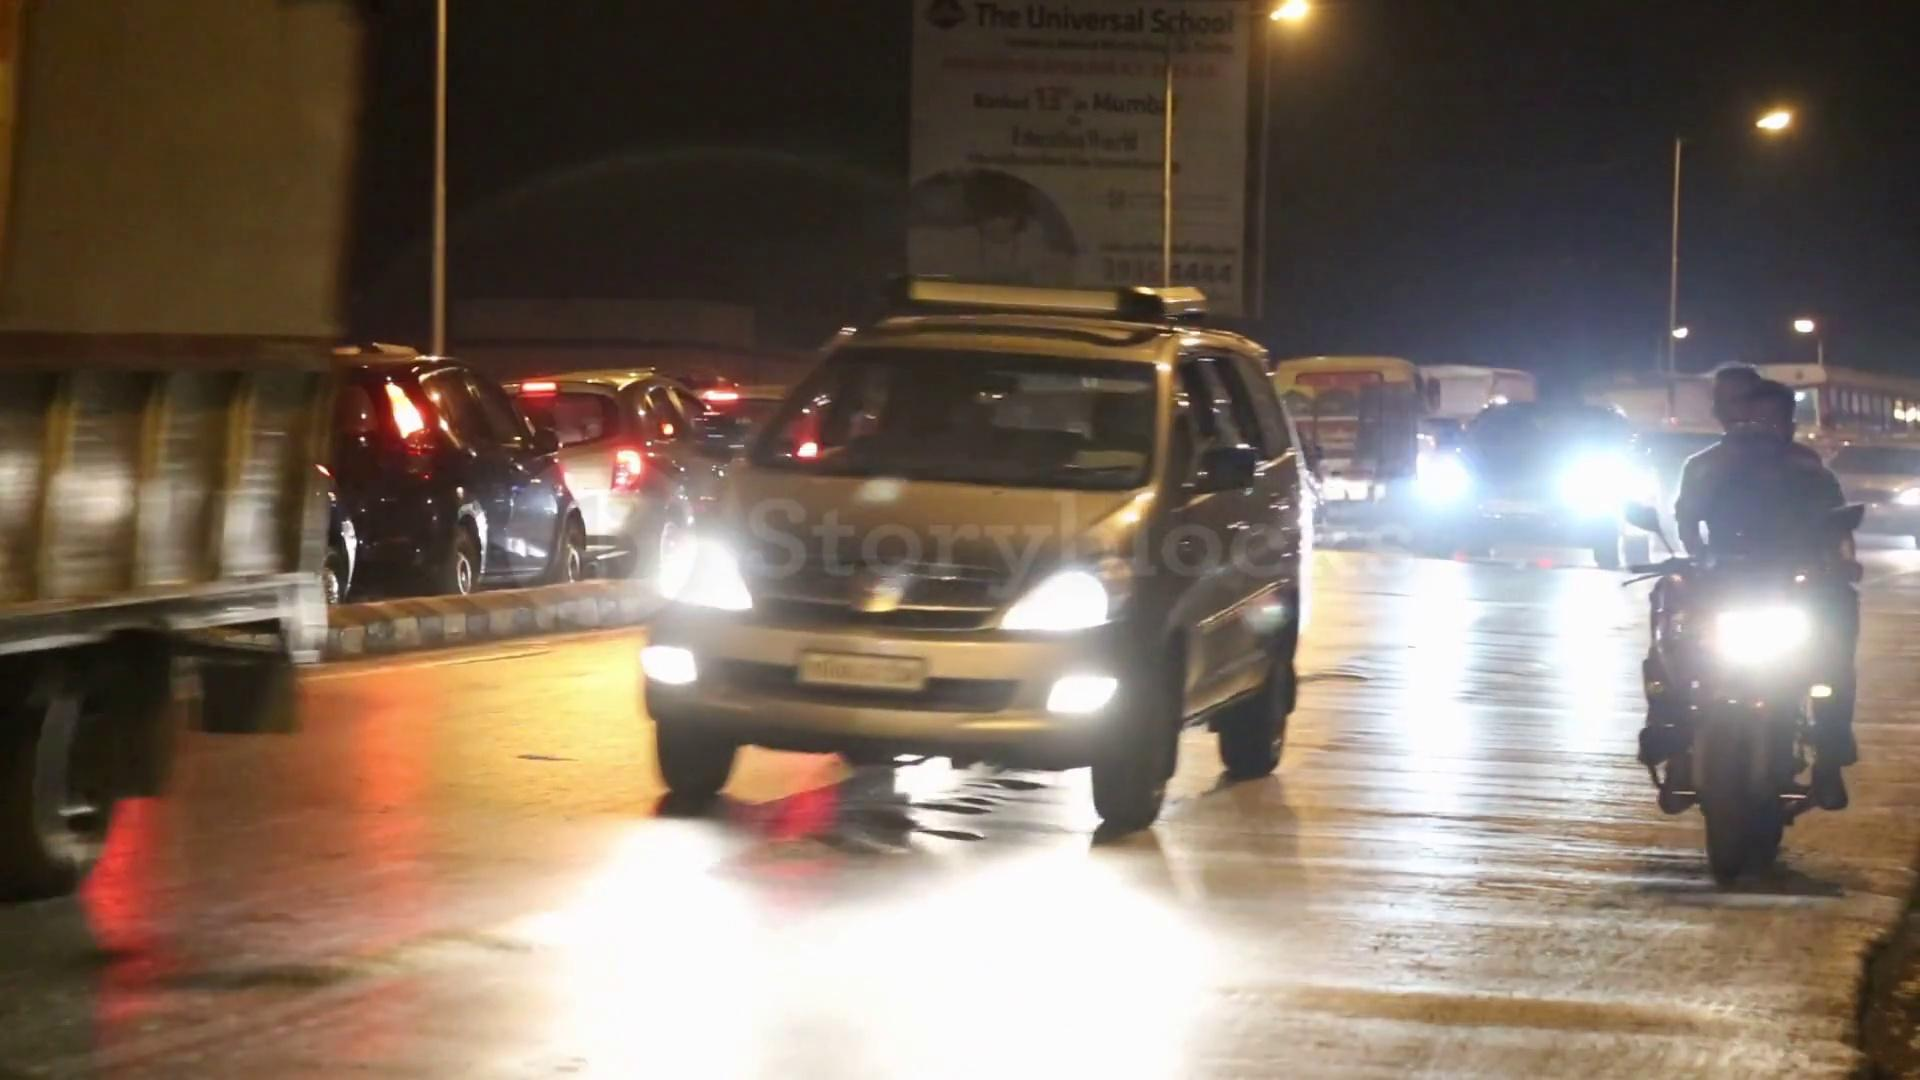rider: (1635, 363, 1864, 813)
without_helmate: (1713, 384, 1807, 459)
